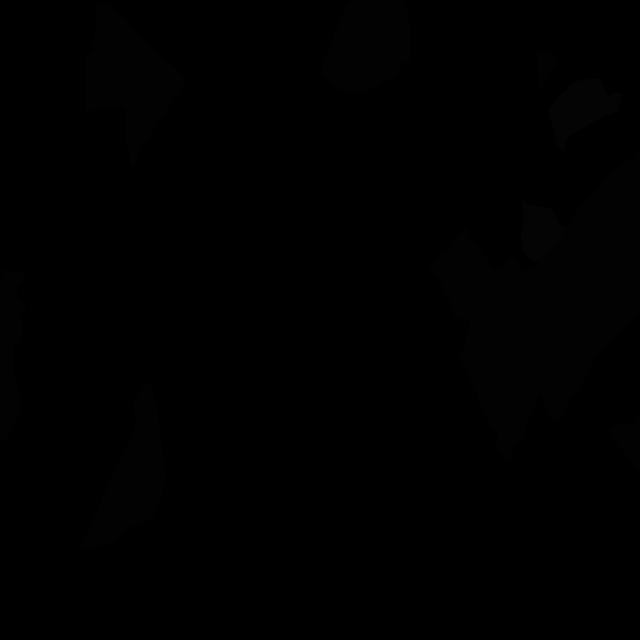cardboard: (428, 227, 566, 460), (525, 151, 640, 422), (85, 2, 187, 169), (80, 381, 166, 549), (320, 0, 412, 92), (0, 268, 27, 441), (611, 413, 640, 471), (536, 51, 557, 89)
soft_plastic: (548, 78, 623, 153), (520, 198, 565, 262)
